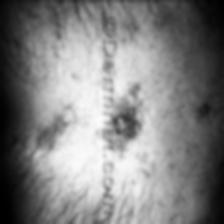Unclassified: (36, 90, 76, 160), (116, 88, 144, 168), (193, 102, 221, 125)
